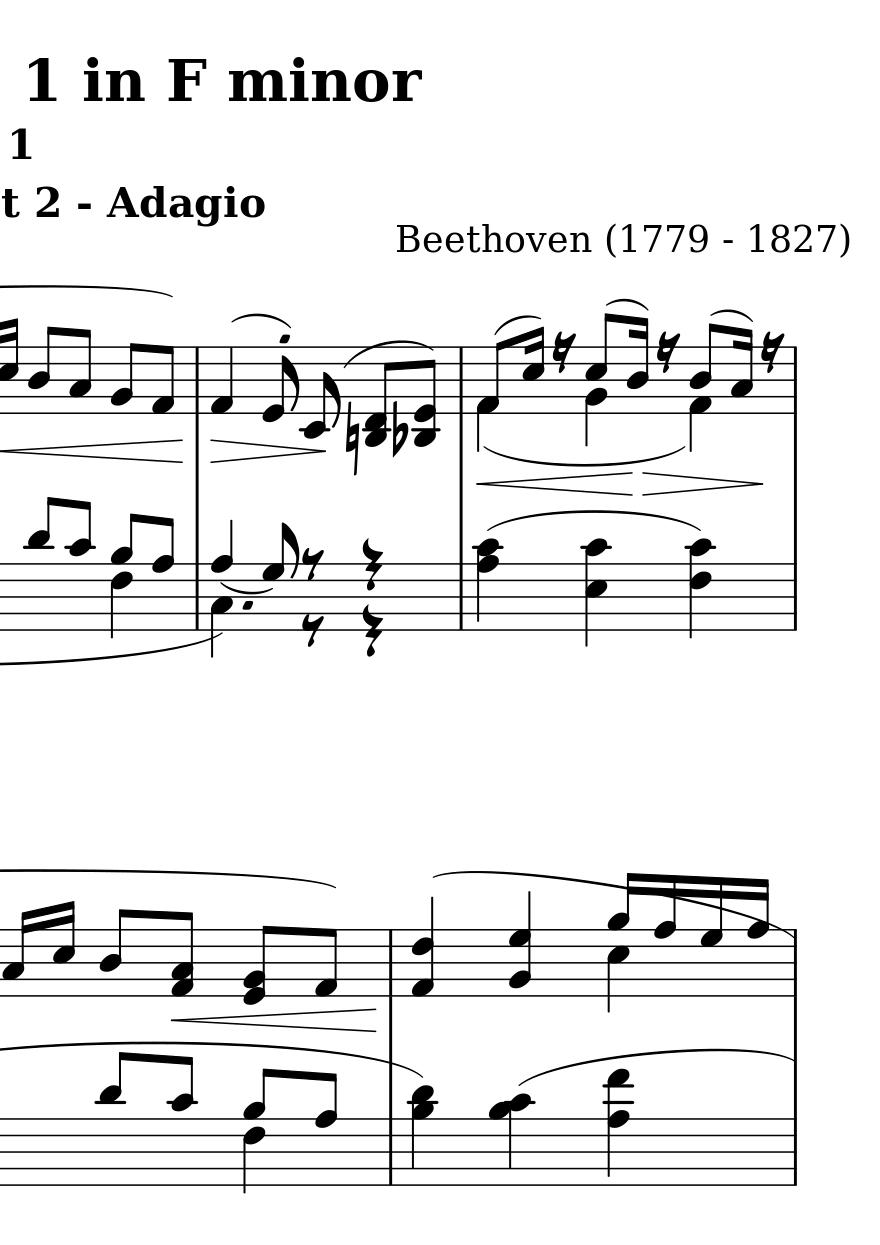16_3: (1, 908, 35, 998), (729, 325, 754, 415)
16_4: (624, 315, 650, 415)
16_5: (51, 897, 76, 998), (520, 325, 546, 415), (1, 315, 19, 416)
16_7: (698, 875, 724, 999), (746, 874, 770, 1000)
16_8: (652, 874, 678, 999)
4_1: (208, 345, 234, 417)
4_1_6: (409, 896, 436, 1000)
4_2_7: (506, 890, 533, 999)
4_3_8: (209, 520, 236, 660)
4_5_10: (580, 537, 610, 649)
4_6: (241, 1117, 266, 1195), (108, 563, 132, 641)
4_6_10: (683, 536, 715, 640)
4_8_10: (472, 537, 503, 634)
4_8_13: (603, 1067, 633, 1187)
4_9_10: (487, 1093, 535, 1186)
4_9_11: (407, 1084, 436, 1188)
8_-2: (301, 345, 341, 440)
8_-3_-1: (362, 346, 394, 449)
8_-3_0: (409, 346, 441, 446)
8_0: (262, 347, 299, 424)
8_0_2: (241, 922, 274, 1007)
8_1: (149, 343, 175, 417), (313, 927, 339, 1001)
8_10: (167, 1055, 196, 1189), (66, 498, 93, 633)
8_11: (95, 1049, 128, 1188), (24, 495, 54, 632)
8_1_3: (170, 908, 195, 999)
8_2: (108, 341, 139, 415)
8_3: (66, 327, 92, 416)
8_4: (98, 905, 131, 998), (26, 324, 57, 415)
8_8: (261, 521, 296, 632), (312, 1072, 339, 1189), (149, 515, 175, 633)
Crescendo_hairpin: (172, 1005, 378, 1034), (1, 437, 184, 463), (474, 469, 635, 497)
Diminuendo_hairpin: (644, 471, 763, 498), (208, 438, 324, 462)
Flat: (390, 399, 406, 459)
Natural: (343, 401, 360, 476)
Rests16: (655, 330, 680, 376), (760, 330, 785, 375), (551, 330, 576, 374)
Rests4: (359, 536, 384, 593), (360, 604, 385, 660)
Rests8: (299, 613, 326, 647), (301, 546, 325, 581)
Single_barline: (786, 1118, 803, 1185), (189, 563, 206, 627), (188, 347, 204, 413), (787, 347, 803, 413), (382, 930, 398, 996), (383, 1118, 399, 1184), (454, 348, 470, 413), (787, 564, 803, 629), (787, 930, 802, 996), (454, 563, 469, 628)
Slur: (515, 1045, 794, 1084), (483, 444, 689, 464), (341, 338, 436, 369), (229, 312, 293, 329), (494, 313, 541, 334), (218, 581, 273, 595), (710, 306, 754, 323), (606, 296, 648, 312)
